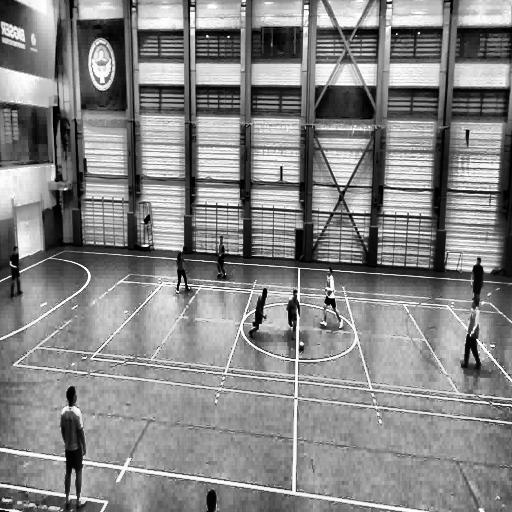ball: (299, 340, 304, 350)
player: (64, 384, 90, 510), (315, 266, 343, 330), (460, 294, 482, 368), (249, 288, 268, 339), (10, 246, 24, 297), (287, 290, 300, 341), (176, 245, 190, 292), (470, 257, 484, 299), (217, 235, 226, 278)
